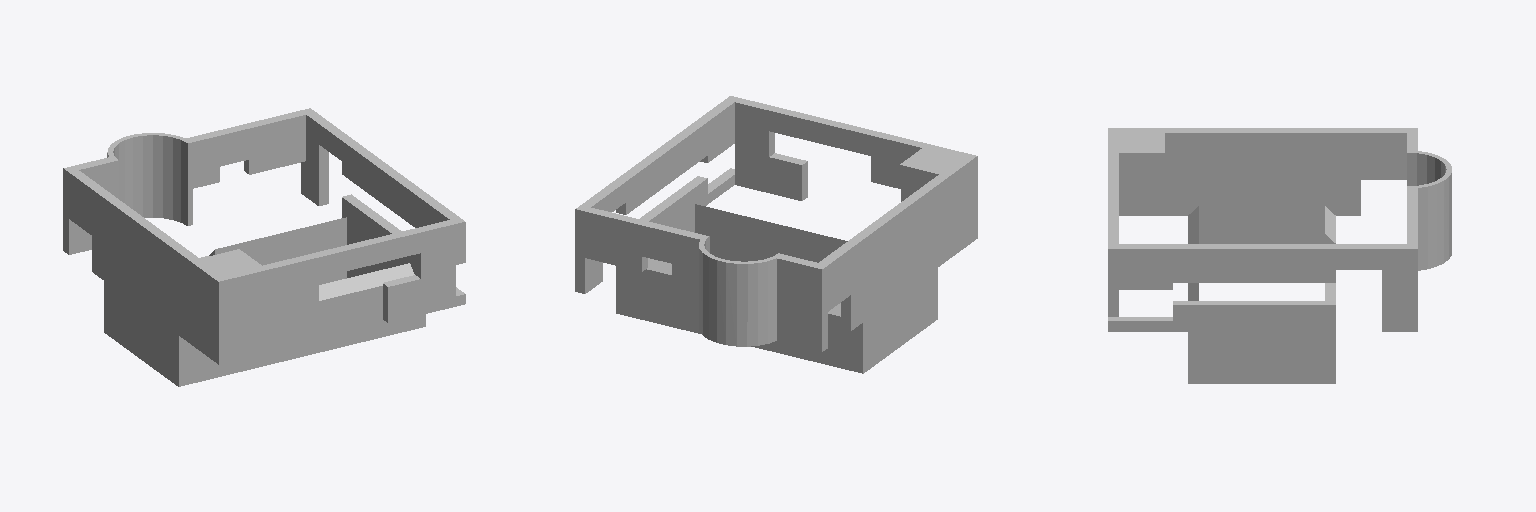
Rendered from scene_walls.obj.
The picture shows the model from 3 angles: view 1: azimuth 30°, elevation 25°; view 2: azimuth 150°, elevation 25°; view 3: azimuth 270°, elevation 25°; orthographic projection.
Parts seen in each view (by area): view 1: Regular_Wall, Metal_Wall.001, Pit.001; view 2: Regular_Wall, Metal_Wall.001, Pit.001; view 3: Metal_Wall.001, Regular_Wall, Pit.001.
Part boxes in pixels (left/top/right/bottom): Regular_Wall: left=63, top=124, right=465, bottom=361; Metal_Wall.001: left=63, top=108, right=465, bottom=386; Pit.001: left=188, top=217, right=415, bottom=384; Regular_Wall: left=642, top=96, right=967, bottom=346; Metal_Wall.001: left=575, top=108, right=977, bottom=373; Pit.001: left=626, top=204, right=853, bottom=370; Metal_Wall.001: left=1108, top=128, right=1417, bottom=383; Regular_Wall: left=1108, top=128, right=1451, bottom=316; Pit.001: left=1188, top=206, right=1335, bottom=300.
Bounding box in the file's own units: 25 × 13 × 30.16.